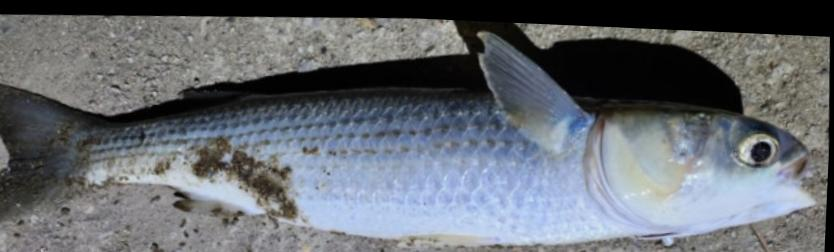fish: (0, 26, 818, 241)
